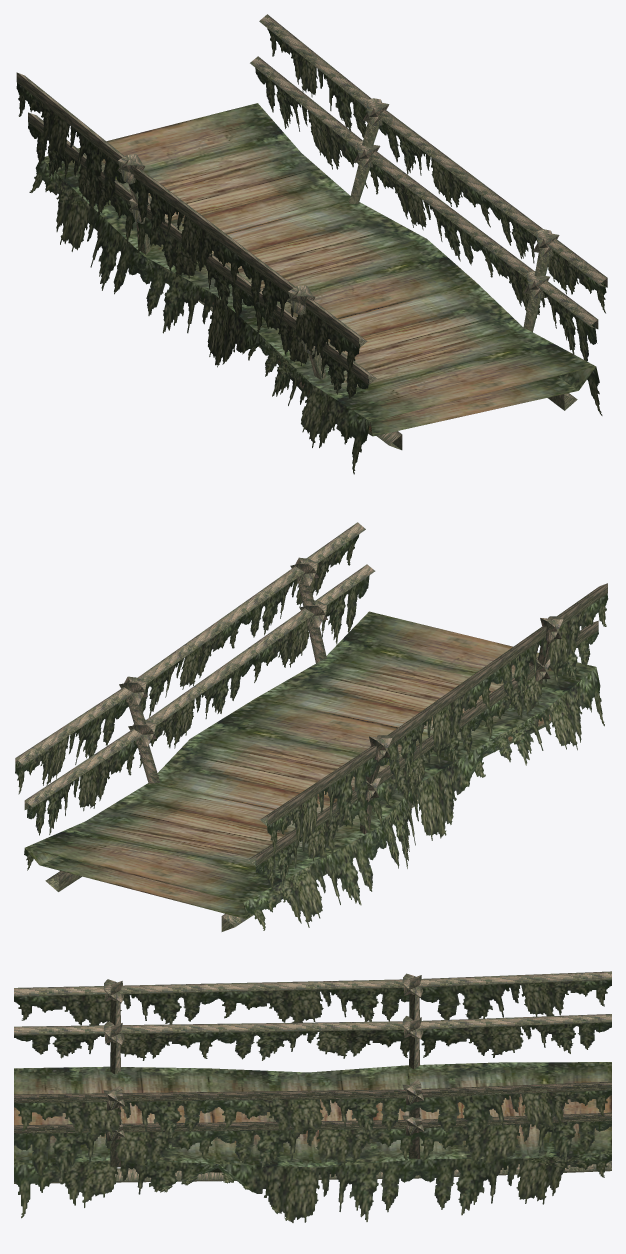
File: C1SMBRIDGEROPEB02.obj
3 renders of one model, top to bottom at view 1: azimuth 30°, elevation 25°; view 2: azimuth 150°, elevation 25°; view 3: azimuth 270°, elevation 25°, orthographic. The views are drawn at different scales.
Visible parts, largest first — view 1: Node 0; view 2: Node 0; view 3: Node 0.
Boxes of the visible parts, bbox=[...] form: Node 0: bbox=[16, 14, 607, 474]; Node 0: bbox=[15, 522, 608, 931]; Node 0: bbox=[14, 971, 611, 1222].
Size of the model in its own units: 9.23 by 6 by 20.3.
3 materials, 3 textured.
